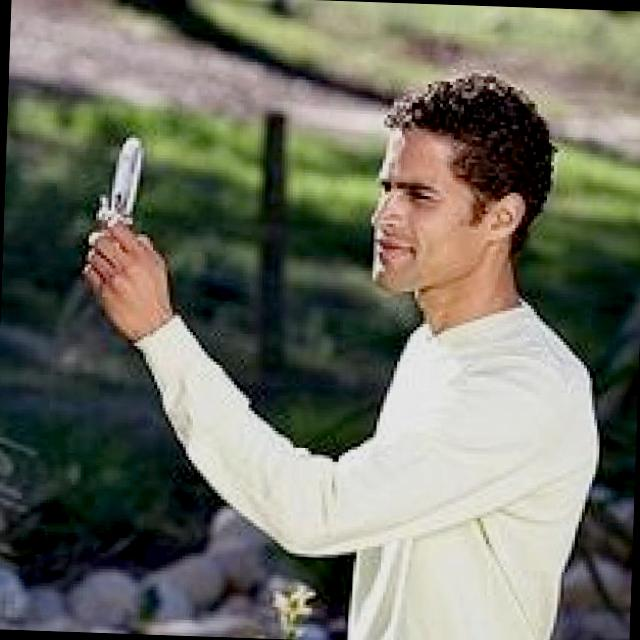no_vest: (325, 287, 614, 640)
